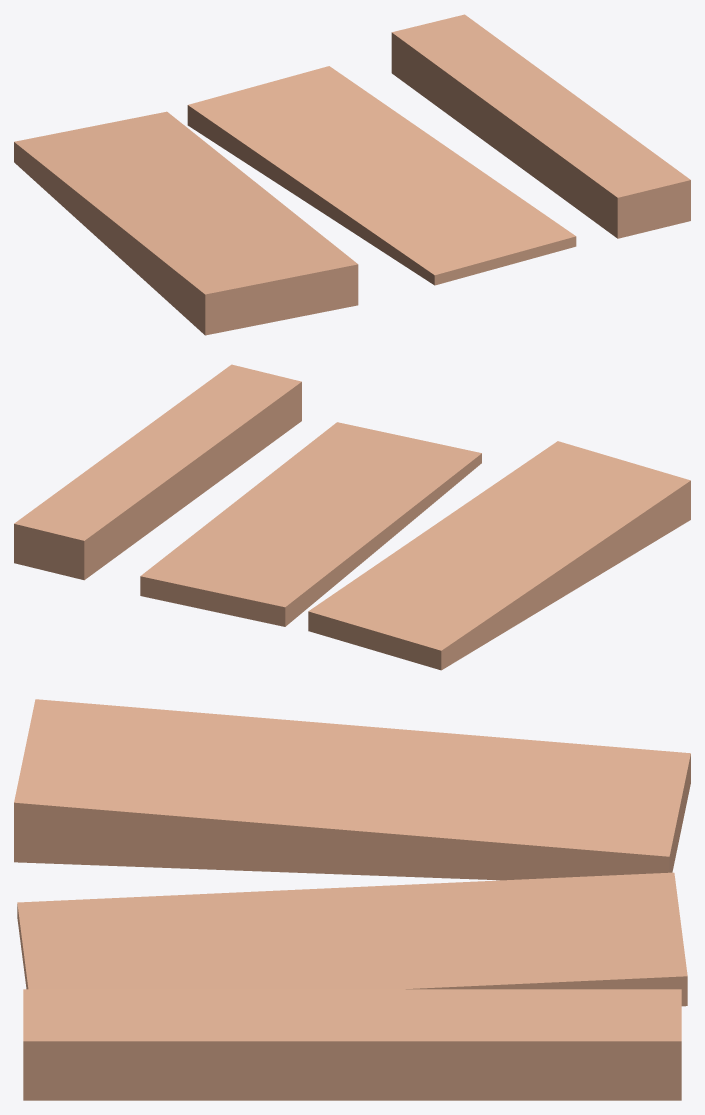
File: path_woodEnd.glb
3 views of the same model, one above another, from view 1: azimuth 30°, elevation 25°; view 2: azimuth 150°, elevation 25°; view 3: azimuth 270°, elevation 25° (orthographic). The views are drawn at different scales.
Visible parts, largest first — view 1: path_woodEnd; view 2: path_woodEnd; view 3: path_woodEnd.
Boxes of the visible parts, x1=… form: path_woodEnd: x1=14, y1=14, x2=690, y2=335; path_woodEnd: x1=14, y1=364, x2=690, y2=670; path_woodEnd: x1=14, y1=699, x2=690, y2=1100.
Size of the model in its own units: 0.6148 by 0.05 by 0.5144.
